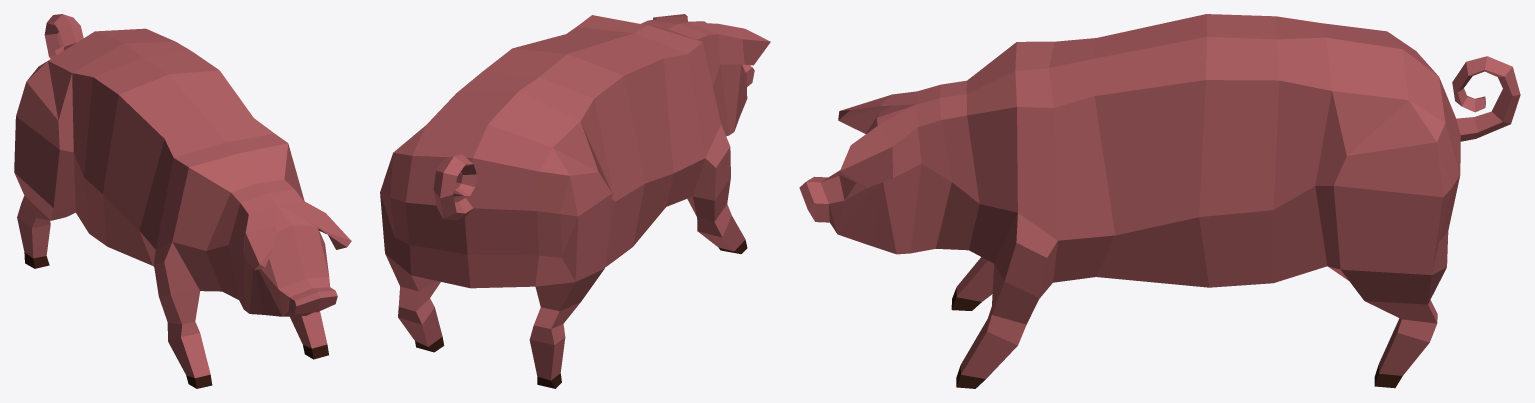
Rendered from Pig_000030.obj.
The picture shows the model from 3 angles, left to right: view 1: azimuth 30°, elevation 25°; view 2: azimuth 150°, elevation 25°; view 3: azimuth 270°, elevation 25°; orthographic projection. The views are drawn at different scales.
Parts seen in each view (by area): view 1: Pig_Cylinder; view 2: Pig_Cylinder; view 3: Pig_Cylinder.
Part boxes in pixels (bbox=[...]): Pig_Cylinder: bbox=[14, 14, 351, 388]; Pig_Cylinder: bbox=[380, 14, 770, 388]; Pig_Cylinder: bbox=[799, 14, 1520, 388].
Size of the model in its own units: 3.3 by 4.47 by 9.46.
